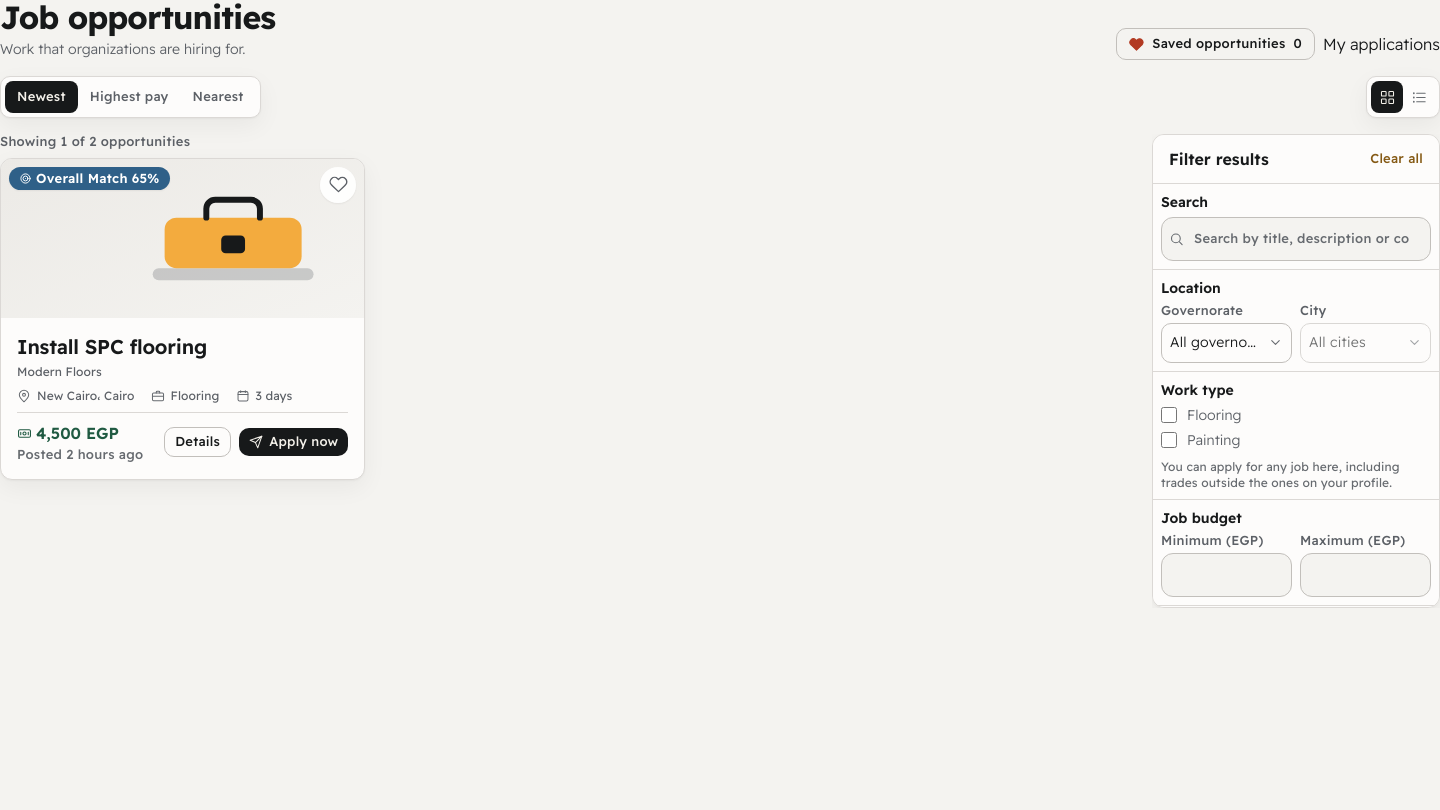
Scenario: production Jobs board — one approved presentation, only real capabilities › Overall Match — the canonical database breakdown, drawn and never recomputed › the breakdown shows each component's own points and reason — met and not met
Click the button with test id "match-badge" at (89, 179), box [9,167,170,190]
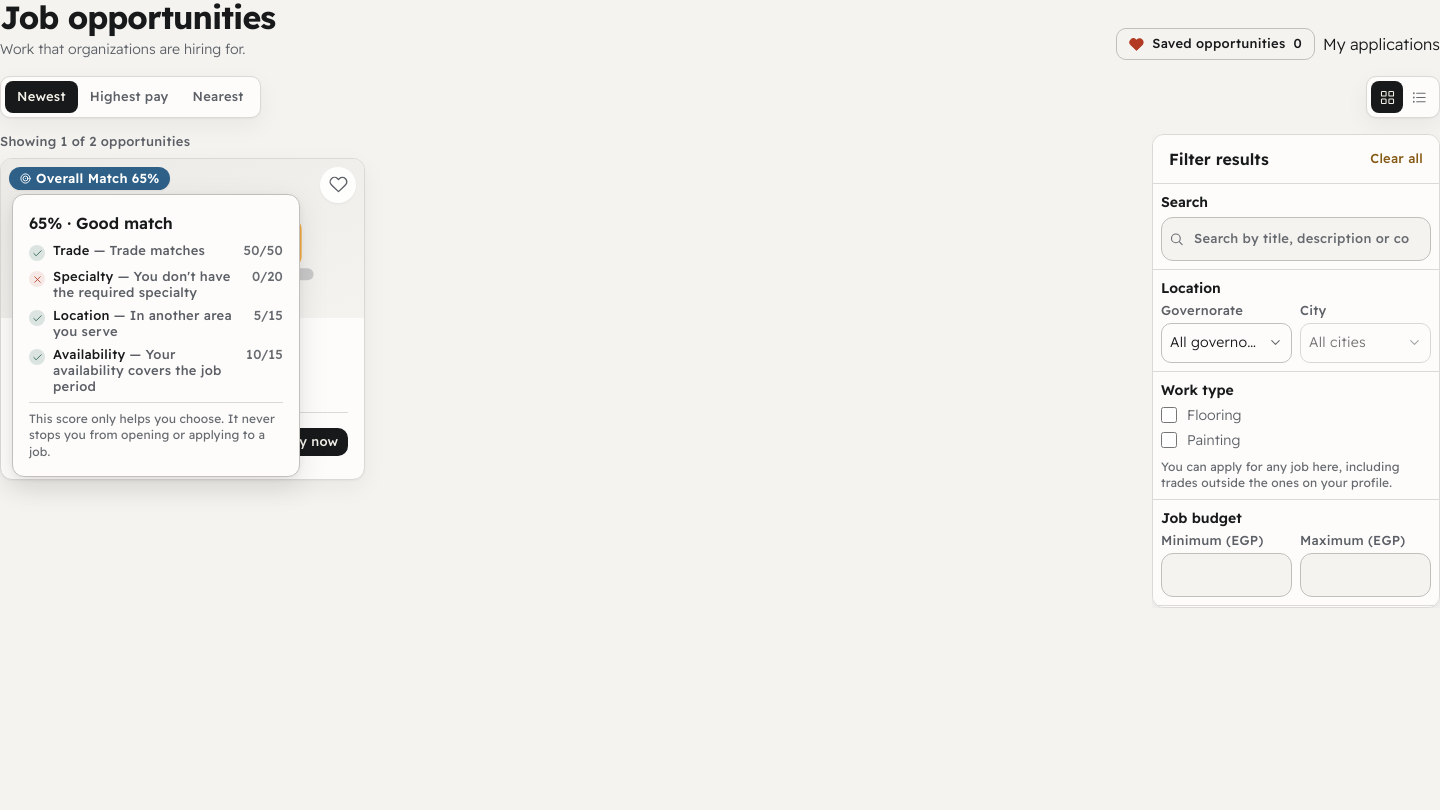
Expected: the list item with test id "match-line-specialty" shows "You don't have the required specialty", [53,268,231,300]
Expected: the list item with test id "match-line-specialty" shows "0/20", [29,269,283,300]
Expected: the list item with test id "match-line-location" shows "In another area you serve", [53,307,232,339]
